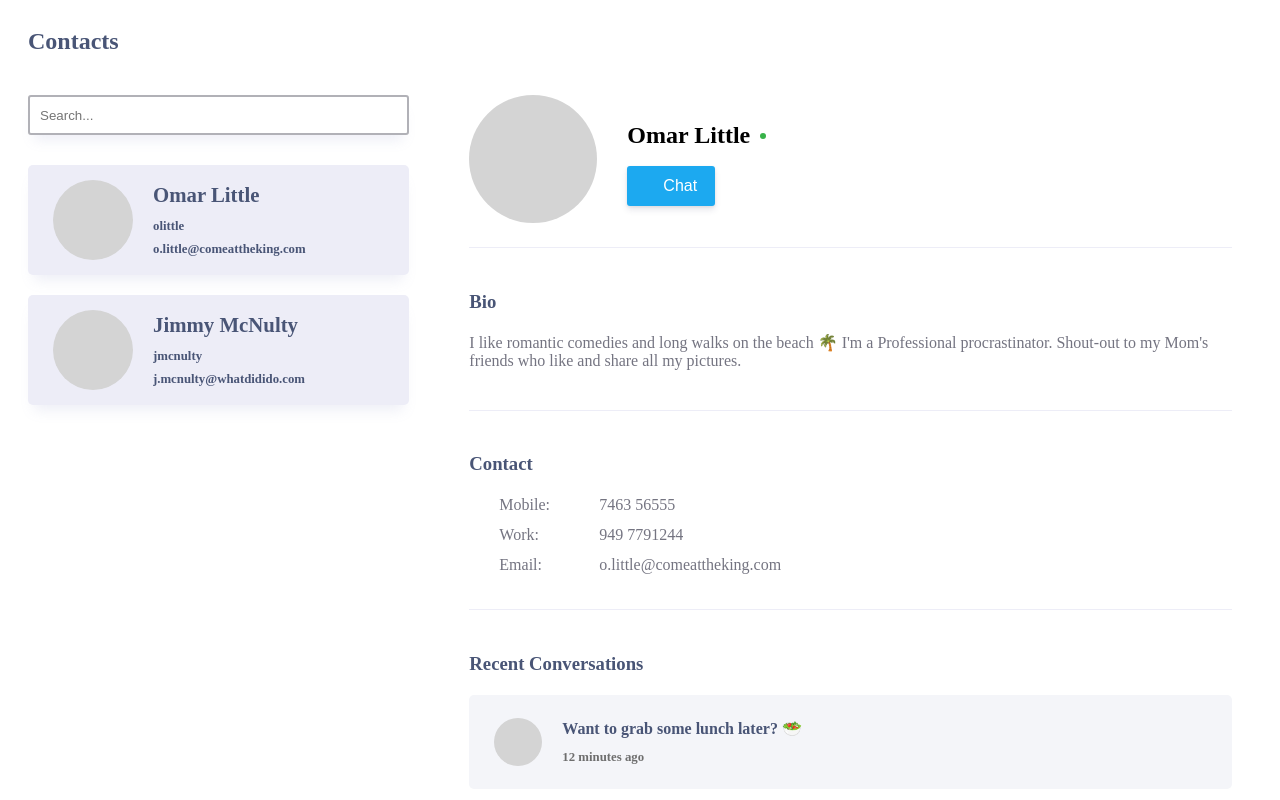
it: Searching Contacts › should display friendly message when no contacts found after searching
Type in some bad search text
Step 1. Type "bla bla bla" into the search field → x=219, y=115, box [28, 95, 409, 135]
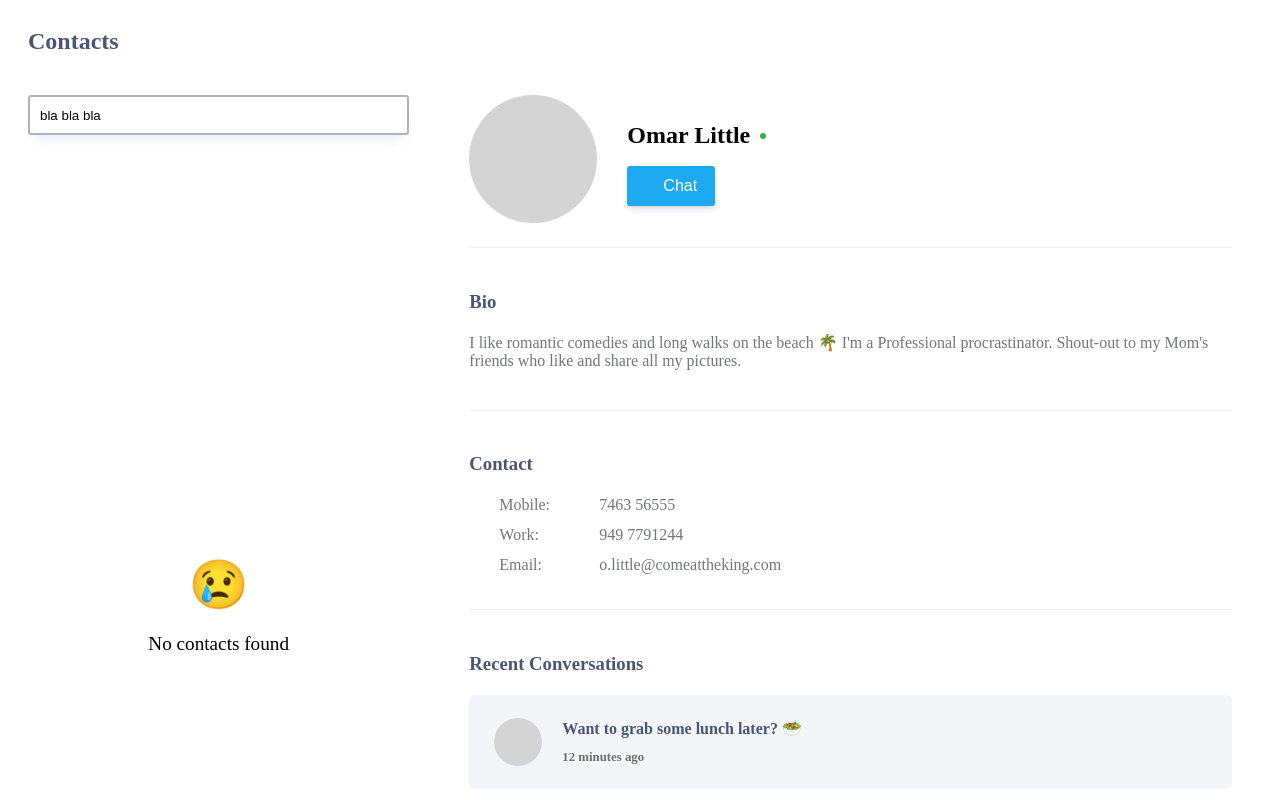
Check: the text "No contacts found" is shown, box [148, 633, 289, 655]
